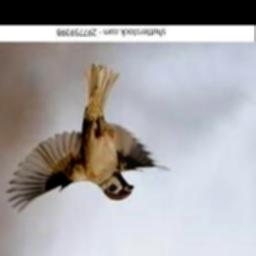Sparrow: (7, 64, 170, 215)
